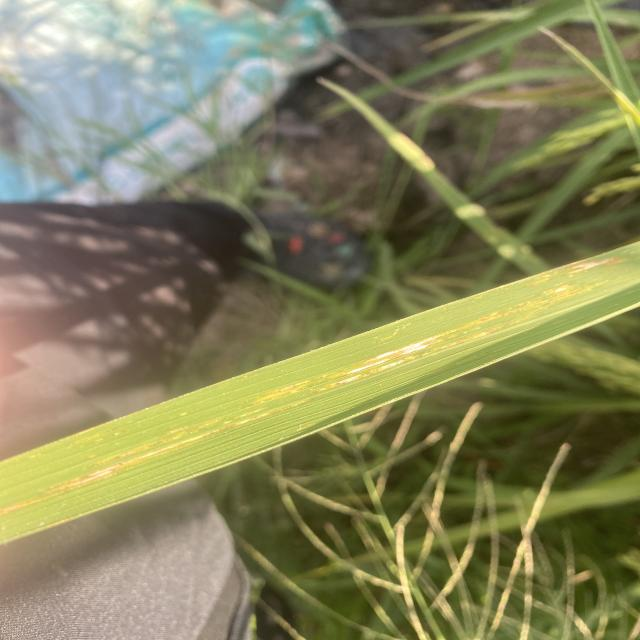Dom soc vi khuan: (43, 399, 310, 493), (311, 317, 530, 393), (334, 314, 499, 380), (538, 280, 607, 305), (543, 285, 574, 294)
